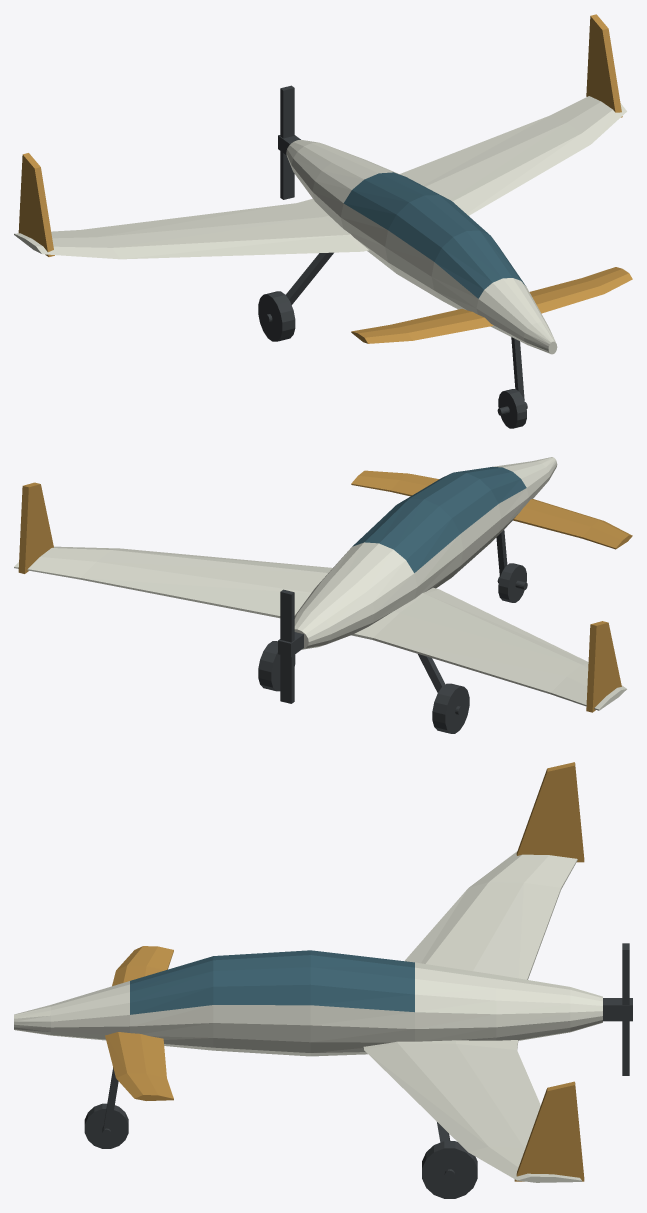
3 views of the same model, one above another, from view 1: azimuth 30°, elevation 25°; view 2: azimuth 150°, elevation 25°; view 3: azimuth 270°, elevation 25° (orthographic). The views are drawn at different scales.
Parts seen in each view (by area): view 1: WholeSweptRearMainWing, WholeCompactCockpitAndAftEngineBody, WholeForwardCanard, RightWholeWingtipVerticalFin, LeftWholeWingtipVerticalFin, LeftWholeMainGroundTyre, WholeFixedAftTwoBladePropeller, WholeNoseGroundTyre, LeftWholeSplayedGearLeg; view 2: WholeSweptRearMainWing, WholeCompactCockpitAndAftEngineBody, WholeForwardCanard, RightWholeWingtipVerticalFin, LeftWholeWingtipVerticalFin, LeftWholeMainGroundTyre, WholeFixedAftTwoBladePropeller, RightWholeMainGroundTyre, WholeNoseGroundTyre, WholeAftPropellerHub, LeftWholeSplayedGearLeg; view 3: WholeCompactCockpitAndAftEngineBody, WholeSweptRearMainWing, WholeForwardCanard, LeftWholeWingtipVerticalFin, RightWholeWingtipVerticalFin, RightWholeMainGroundTyre, WholeNoseGroundTyre, WholeFixedAftTwoBladePropeller, WholeAftPropellerHub.
Boxes of the visible parts, x1,y1,x2,y2 form: WholeSweptRearMainWing: (14, 96, 626, 259); WholeCompactCockpitAndAftEngineBody: (286, 140, 557, 354); WholeForwardCanard: (351, 267, 632, 343); RightWholeWingtipVerticalFin: (586, 14, 622, 117); LeftWholeWingtipVerticalFin: (18, 153, 54, 256); LeftWholeMainGroundTyre: (258, 291, 295, 341); WholeFixedAftTwoBladePropeller: (280, 85, 294, 199); WholeNoseGroundTyre: (498, 389, 526, 428); LeftWholeSplayedGearLeg: (286, 252, 333, 304); WholeSweptRearMainWing: (14, 546, 626, 710); WholeCompactCockpitAndAftEngineBody: (294, 457, 557, 649); WholeForwardCanard: (351, 470, 632, 549); RightWholeWingtipVerticalFin: (18, 482, 53, 573); LeftWholeWingtipVerticalFin: (586, 621, 621, 712); LeftWholeMainGroundTyre: (432, 683, 469, 733); WholeFixedAftTwoBladePropeller: (280, 589, 294, 703); RightWholeMainGroundTyre: (258, 641, 295, 691); WholeNoseGroundTyre: (498, 563, 526, 602); WholeAftPropellerHub: (278, 632, 303, 657); LeftWholeSplayedGearLeg: (418, 654, 445, 692); WholeCompactCockpitAndAftEngineBody: (14, 950, 602, 1056); WholeSweptRearMainWing: (363, 851, 581, 1182); WholeForwardCanard: (105, 946, 173, 1100); LeftWholeWingtipVerticalFin: (516, 762, 584, 862); RightWholeWingtipVerticalFin: (514, 1081, 584, 1181); RightWholeMainGroundTyre: (422, 1141, 477, 1198); WholeNoseGroundTyre: (84, 1103, 128, 1148); WholeFixedAftTwoBladePropeller: (622, 943, 629, 1075); WholeAftPropellerHub: (603, 998, 632, 1021).
Size of the model in its own units: 3.36 by 1.06 by 2.67.
